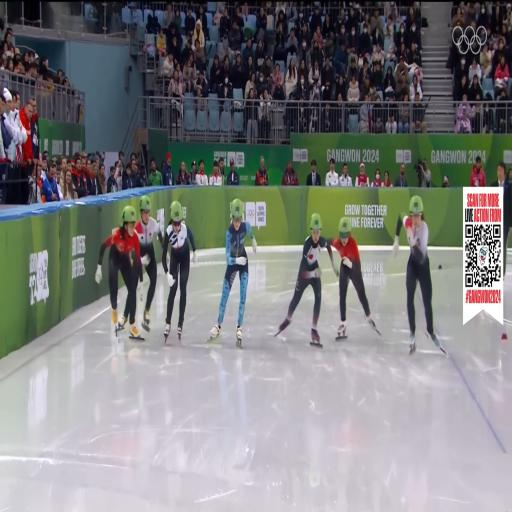Skater: (276, 214, 338, 347), (393, 196, 444, 353), (96, 206, 149, 338), (210, 199, 256, 347), (331, 217, 379, 339), (162, 202, 197, 341), (135, 196, 163, 331)
